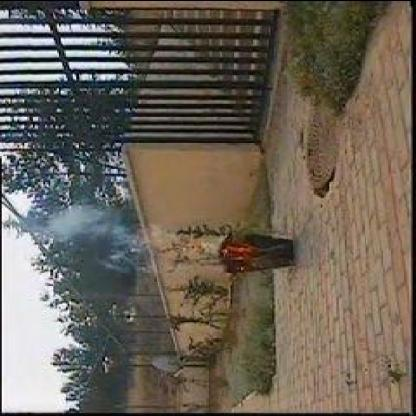-: (50, 210, 140, 249)
foggia-v2-map80-epoch100 - v1 4323: (163, 236, 251, 264)
